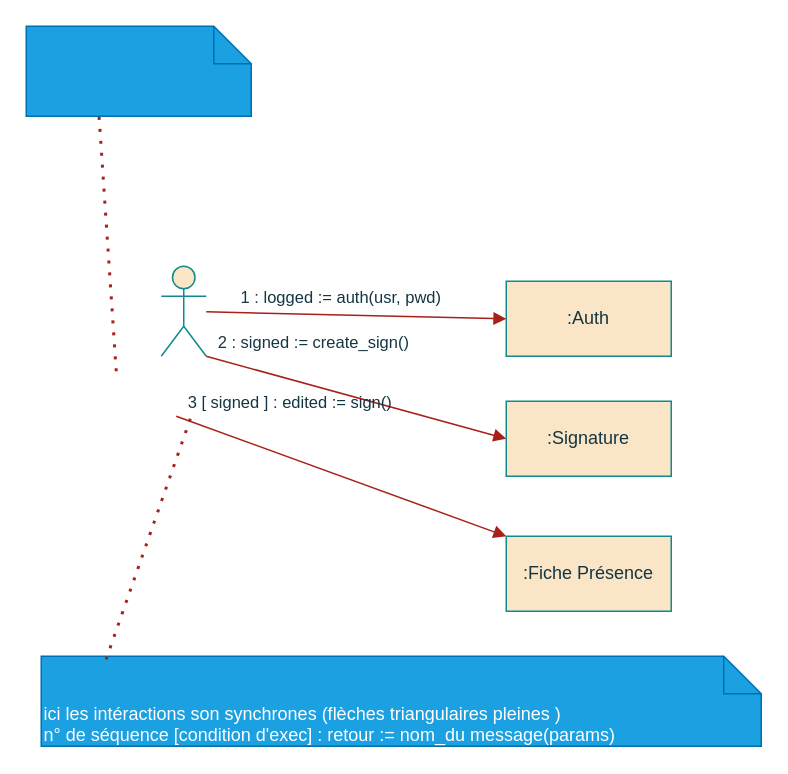
The diagram is 788 pixels wide and 774 high, and some of its shapes have lost their labels. The shapes that lost their labels are listed below. From the top down, each one's box as (x1, y1, x2, y2) in pixels, then its label:
(25, 25, 251, 116): Instance/Rôle:Classe
(160, 265, 206, 356): Martin/client:Participant
